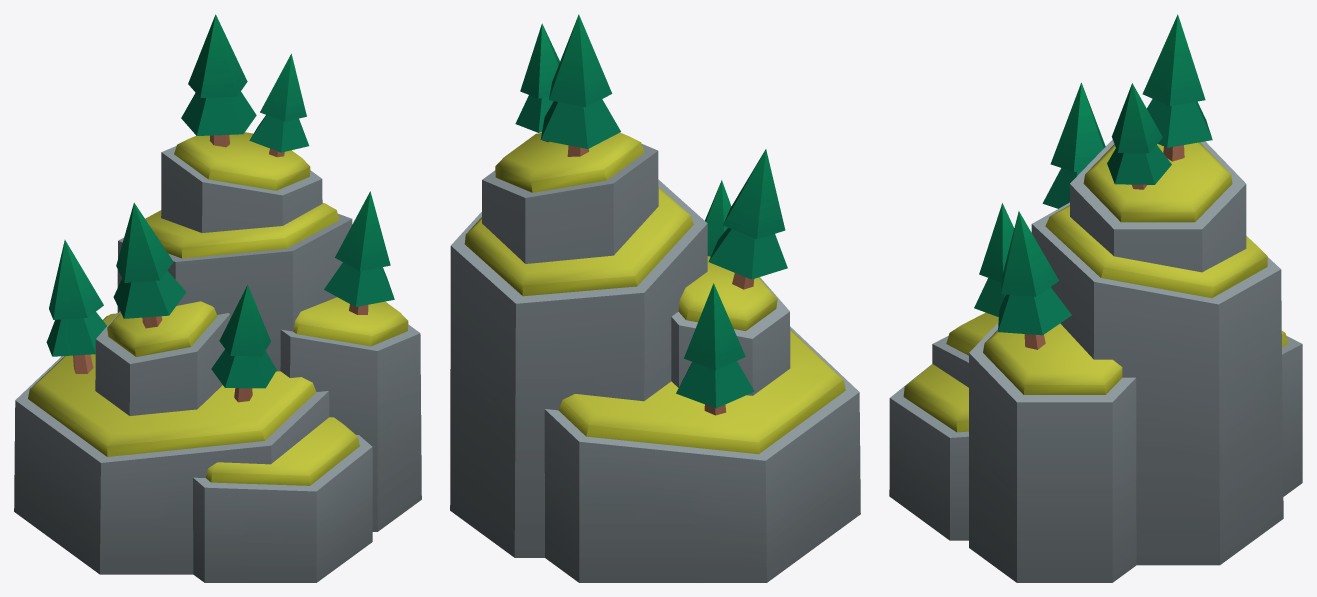
The model's file is kaykit-medieval-hexagon-pack-mountain-b-grass-trees.glb.
The picture shows the model from 3 angles, left to right: view 1: azimuth 30°, elevation 25°; view 2: azimuth 150°, elevation 25°; view 3: azimuth 270°, elevation 25°; orthographic projection. The views are drawn at different scales.
Parts seen in each view (by area): view 1: mountain_B_grass_trees; view 2: mountain_B_grass_trees; view 3: mountain_B_grass_trees.
Part boxes in pixels (left/top/right/bottom): mountain_B_grass_trees: left=14, top=14, right=421, bottom=582; mountain_B_grass_trees: left=450, top=14, right=860, bottom=582; mountain_B_grass_trees: left=889, top=14, right=1302, bottom=582.
Bounding box in the file's own units: 1.8 × 2.5 × 1.88.
Materials: 1 (1 with a texture image).
